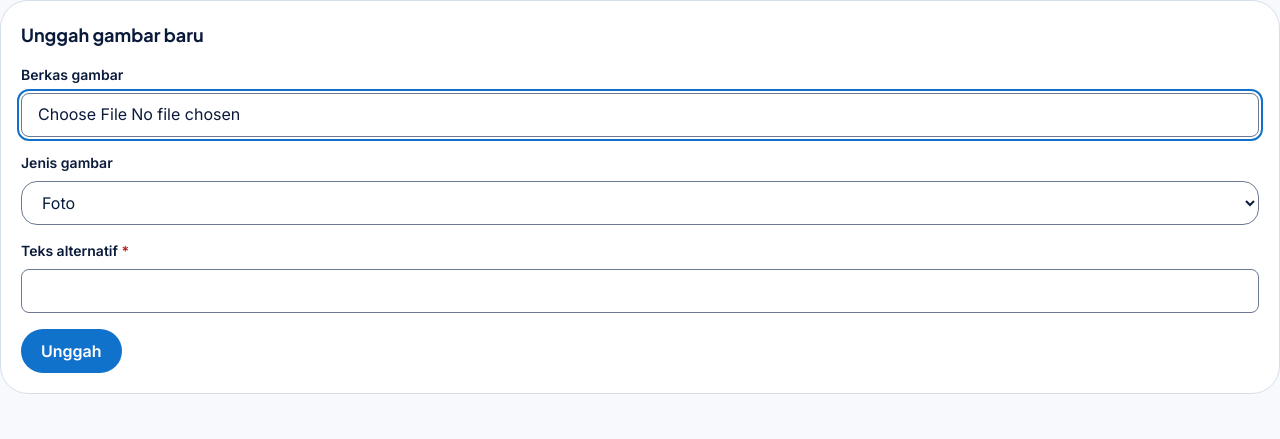
media upload › shows an alt error and sends nothing when the alt text is empty
The width and height of the screenshot is (1280, 439).
Earlier steps of the test are not shown.
Click the button "Unggah" at (71, 351), box [21,329,122,373]
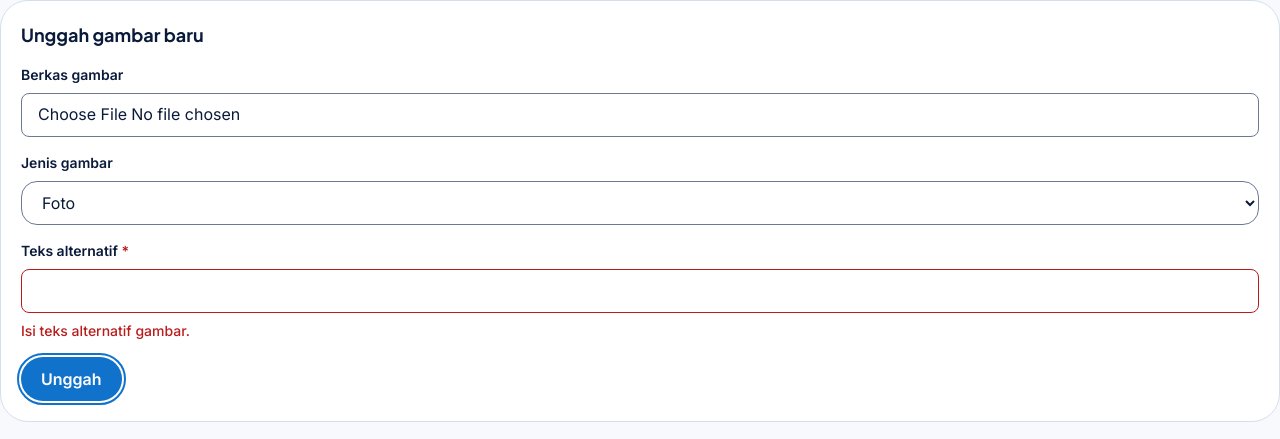
expect the text "Isi teks alternatif gambar." is shown: met, box [21,322,190,339]
